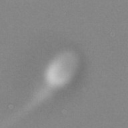normal: (1, 85, 50, 125)
